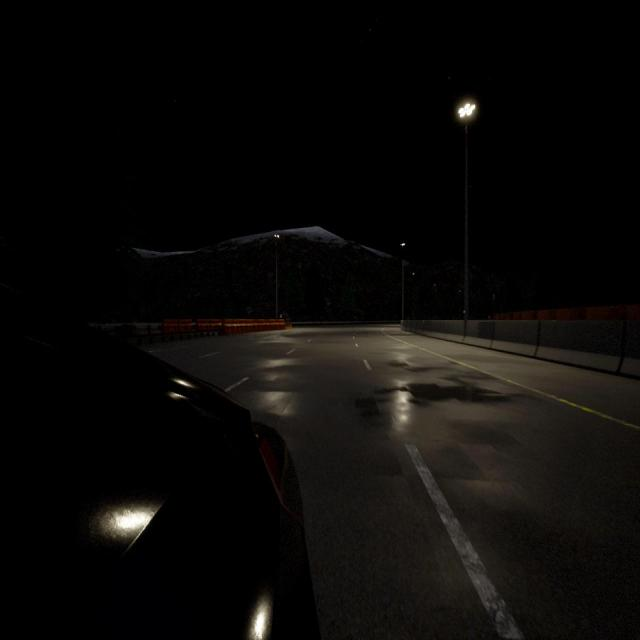Traffic_Signs: (280, 314, 282, 318)
Vehicle: (0, 327, 318, 639)
